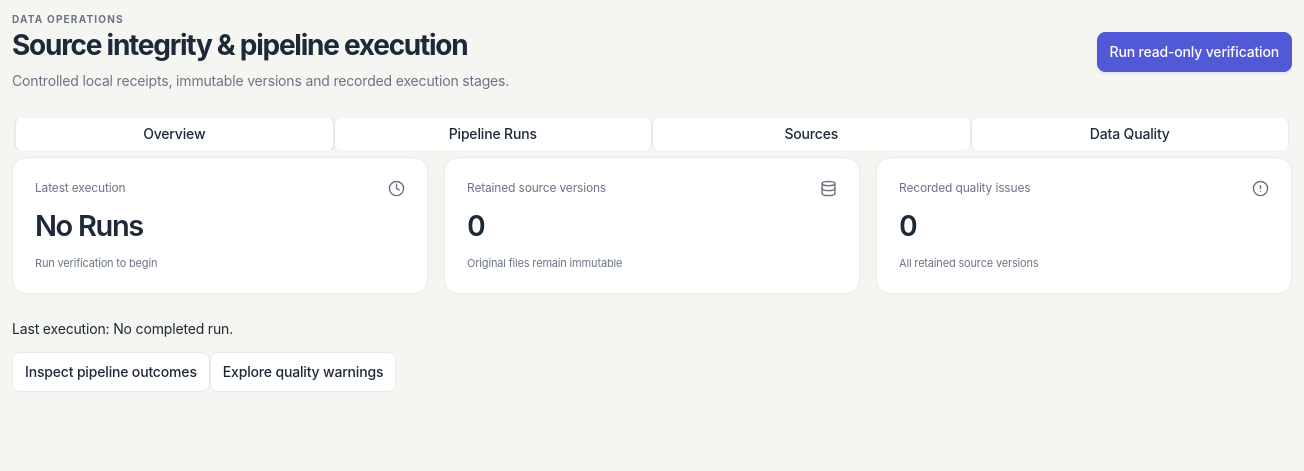
Product workflows › queues actual verification and does not manufacture successful runs
Click the button "Run read-only verification" at (1194, 52), box [1097,32,1292,72]
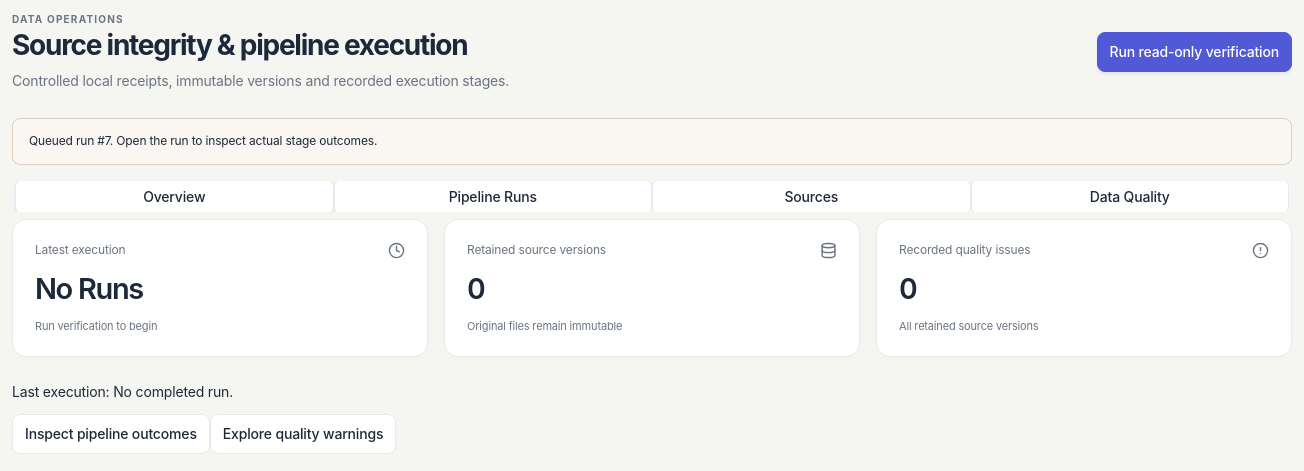
Expected: the message shows "Queued run #7", [29,133,377,148]
